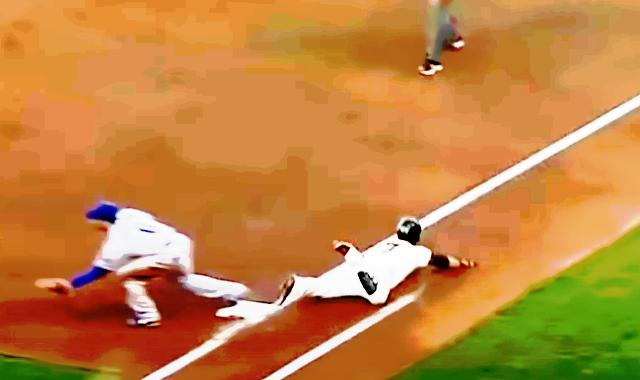jatuh: (270, 211, 482, 319)
